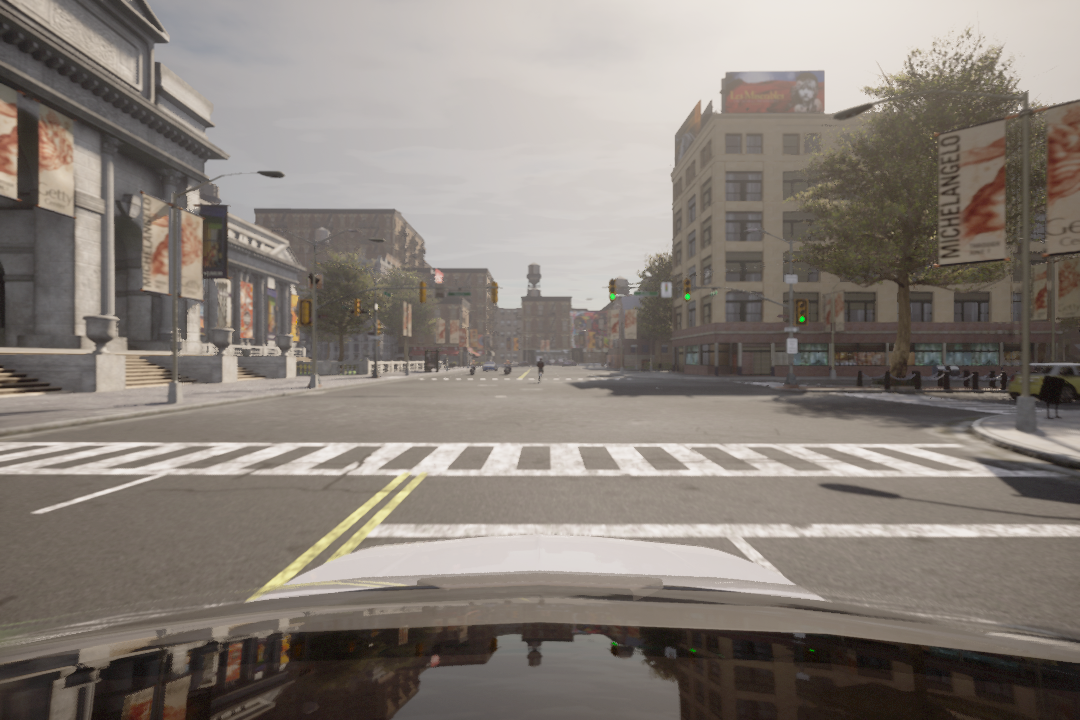TrafficLight: (797, 297, 811, 324), (607, 277, 618, 303), (684, 276, 693, 301)
walkside: (3, 435, 1079, 484)
